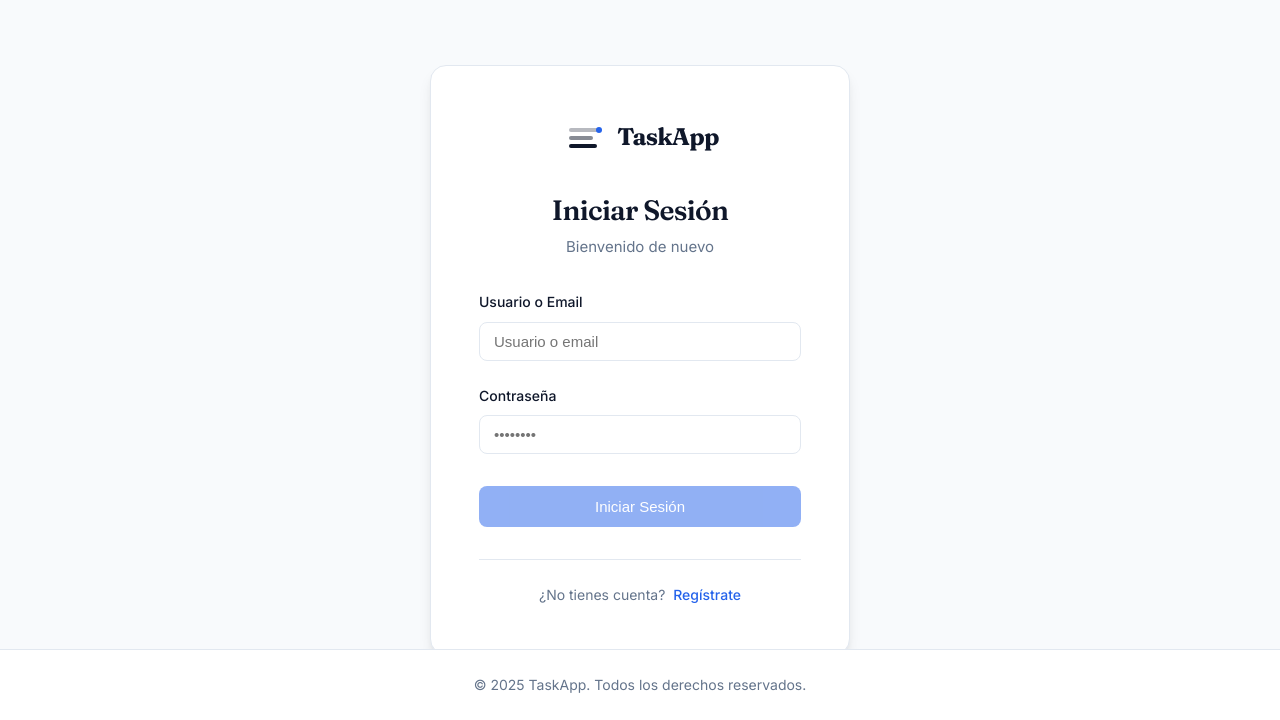
Test case: Login Flow › should toggle to register mode
Click the link "Regístrate".
click(707, 595)  # box 673,586 -> 741,603
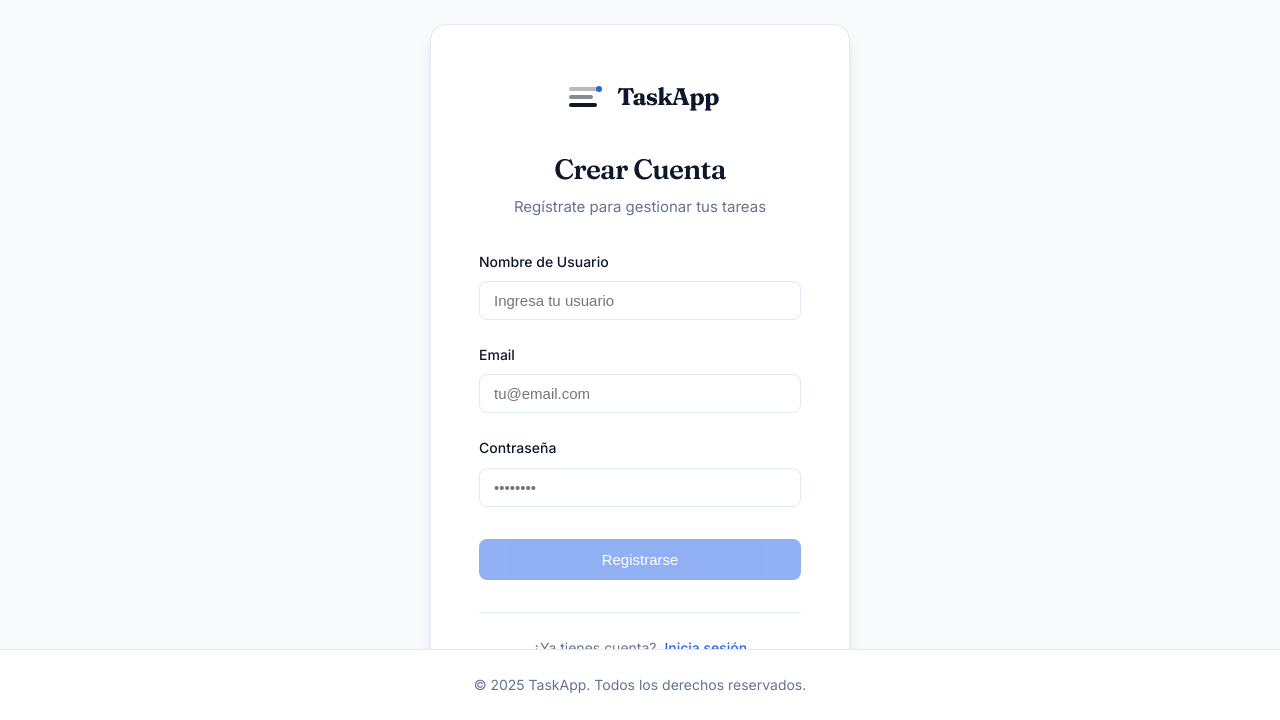
Check: the heading "Crear Cuenta" is shown, box 554,152 -> 726,186
Check: the field with id "email" is shown, box 479,374 -> 801,413
